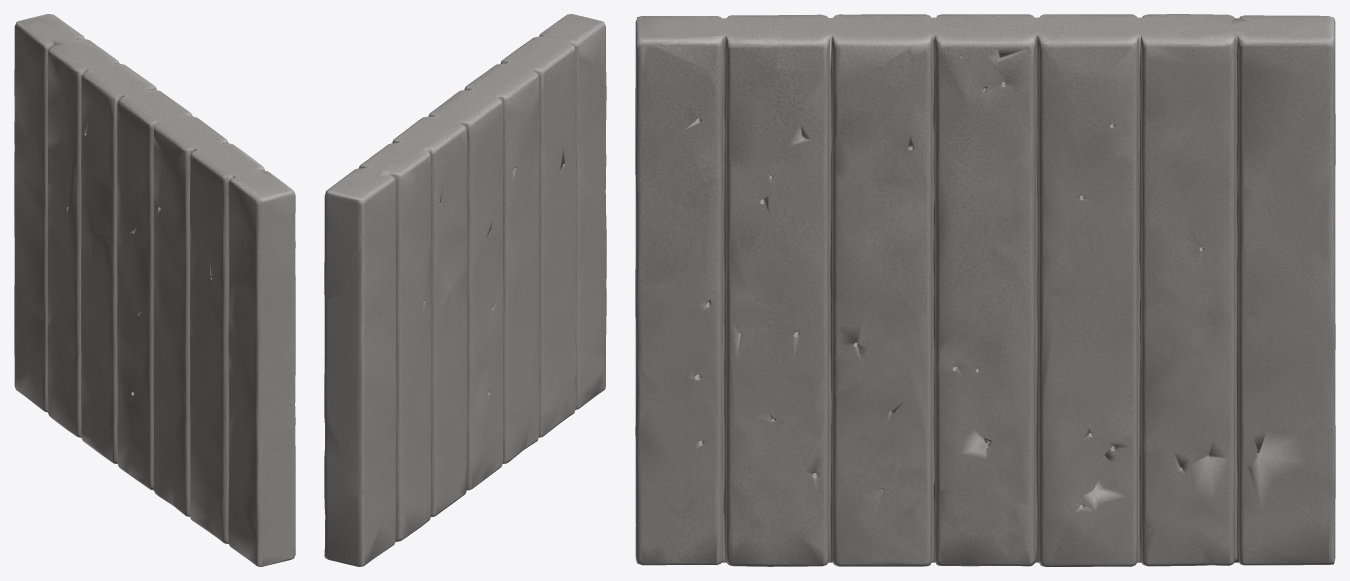
Rendered from pnl_flute.glb.
3 views of the same model, side by side, from view 1: azimuth 30°, elevation 25°; view 2: azimuth 150°, elevation 25°; view 3: azimuth 270°, elevation 25° (orthographic). The views are drawn at different scales.
Visible parts, largest first — view 1: tripo_node_c2f444a6-4292-4854-b261-eb6ce3268616; view 2: tripo_node_c2f444a6-4292-4854-b261-eb6ce3268616; view 3: tripo_node_c2f444a6-4292-4854-b261-eb6ce3268616.
Boxes of the visible parts, x1,y1,x2,y2 form: tripo_node_c2f444a6-4292-4854-b261-eb6ce3268616: (14, 14, 295, 566); tripo_node_c2f444a6-4292-4854-b261-eb6ce3268616: (324, 14, 606, 566); tripo_node_c2f444a6-4292-4854-b261-eb6ce3268616: (635, 14, 1335, 566).
Size of the model in its own units: 0.1673 by 1.2 by 1.44.
Materials: 1 (1 with a texture image).
